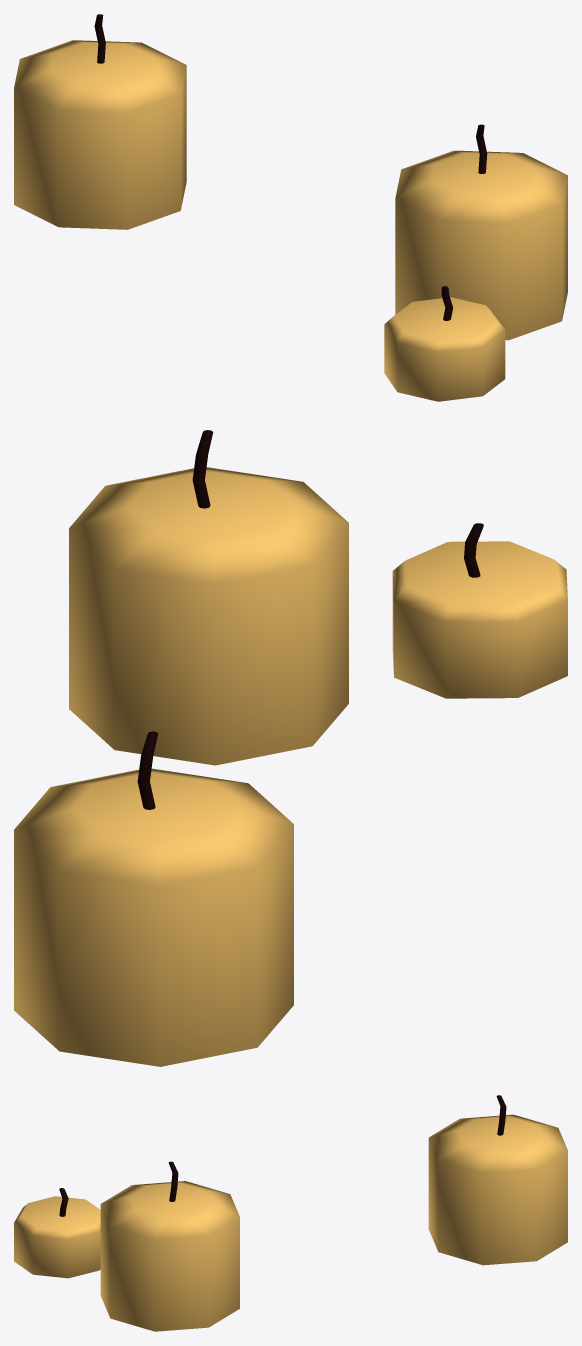
Rendered from SM_Bougie_GroupC.fbx.
3 renders of one model, top to bottom at view 1: azimuth 30°, elevation 25°; view 2: azimuth 150°, elevation 25°; view 3: azimuth 270°, elevation 25°, orthographic. The views are drawn at different scales.
Parts seen in each view (by area): view 1: polySurface15; view 2: polySurface15; view 3: polySurface15.
Boxes of the visible parts, x1,y1,x2,y2 form: polySurface15: [14, 14, 567, 401]; polySurface15: [14, 430, 567, 1066]; polySurface15: [14, 1095, 567, 1331].
Size of the model in its own units: 11.56 by 6.3 by 21.61.
